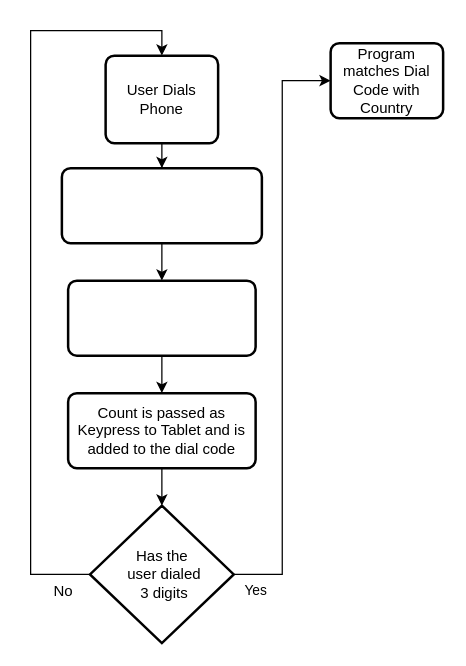
This 466x666 diagram has some shape labels left out. Here are the shapes that lost their labels. From the top down, the box of each, then its label:
(60, 166, 262, 244): Raspberry Pi receives input through GPIO by counting pulses from dial spin
(66, 279, 256, 356): Python script converts Pulse count to USB Keyboard Signal
